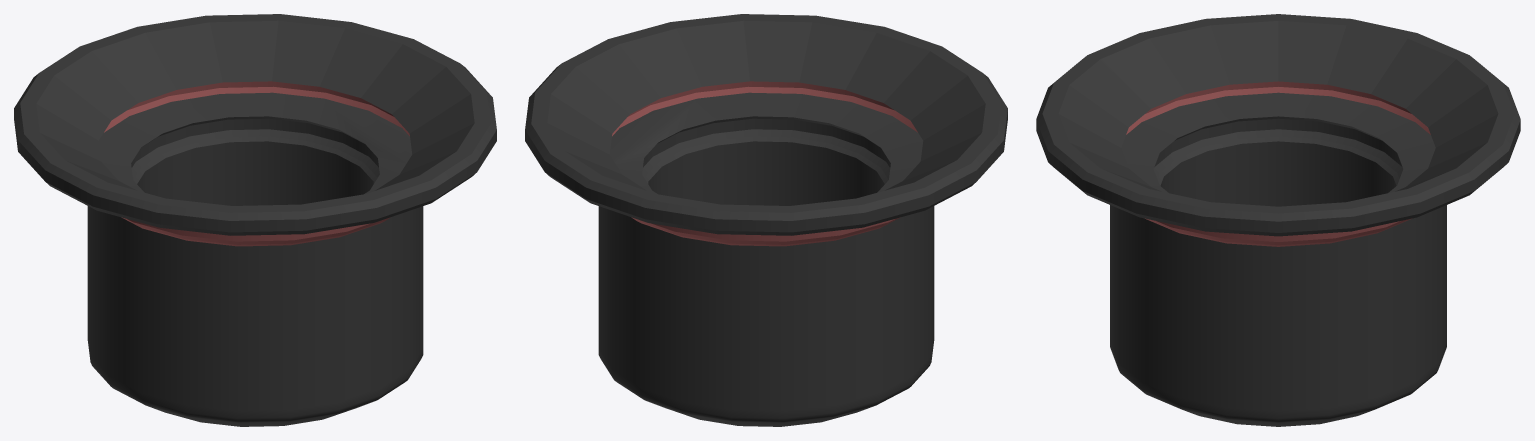
File: Tophat_Block.fbx
3 renders of one model, left to right at view 1: azimuth 30°, elevation 25°; view 2: azimuth 150°, elevation 25°; view 3: azimuth 270°, elevation 25°, orthographic.
Visible parts, largest first — view 1: tophat; view 2: tophat; view 3: tophat.
Part boxes in pixels (x1,y1,x2,y2): tophat: [14, 14, 496, 426]; tophat: [525, 14, 1007, 426]; tophat: [1036, 14, 1520, 426].
Bounding box in the file's own units: 779 × 491 × 779.
